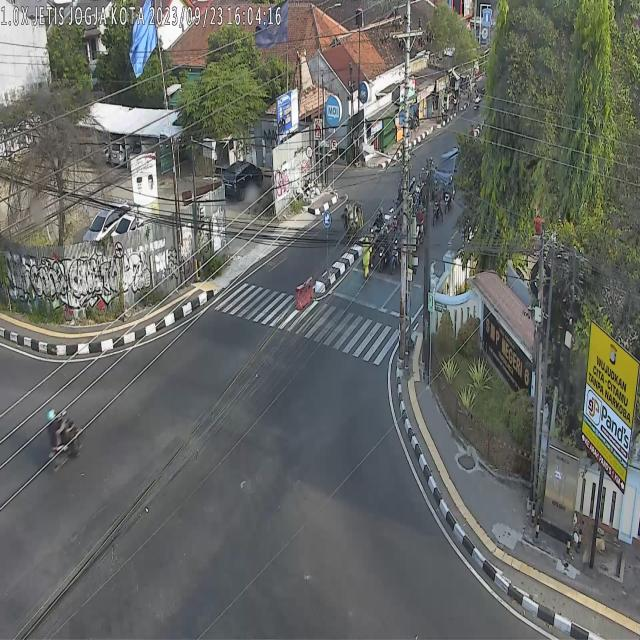car: (434, 148, 460, 192)
motorcycle: (46, 406, 82, 476), (368, 206, 388, 247), (378, 226, 389, 272), (433, 185, 444, 226), (391, 231, 401, 275), (445, 177, 455, 215), (415, 206, 424, 246)
